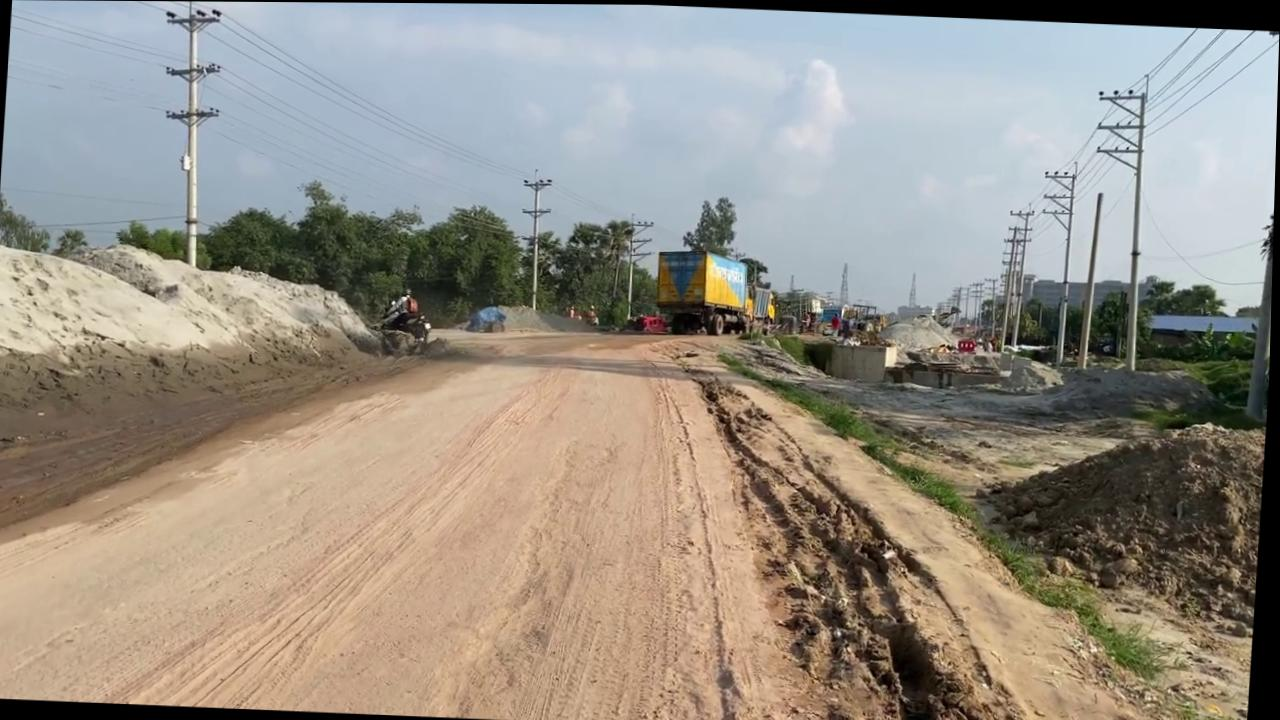Garbage: (465, 304, 509, 332)
Motorcycle: (370, 298, 435, 358)
Muddy road: (0, 299, 1251, 720)
Pole: (150, 1, 227, 267), (1078, 189, 1104, 367)
Rickshaw: (675, 344, 1211, 720)
Traffic-sign: (683, 193, 741, 257)
Tree: (653, 246, 752, 335), (838, 300, 886, 338), (745, 281, 780, 333), (633, 312, 670, 332)
